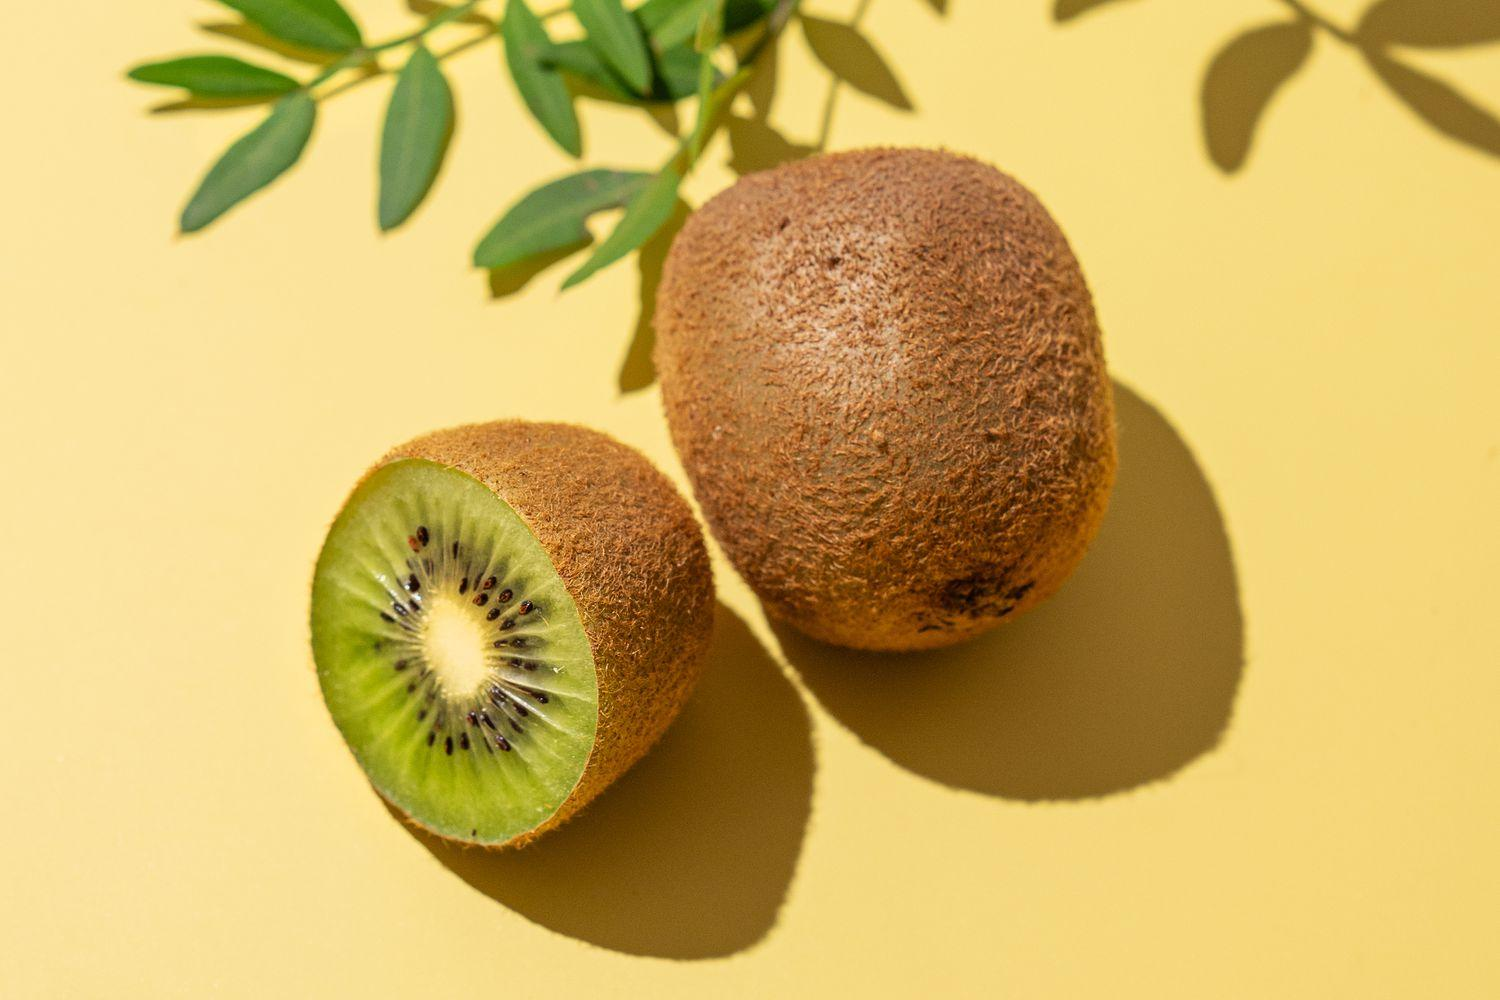kiwi: (650, 145, 1127, 658), (307, 415, 714, 862)
